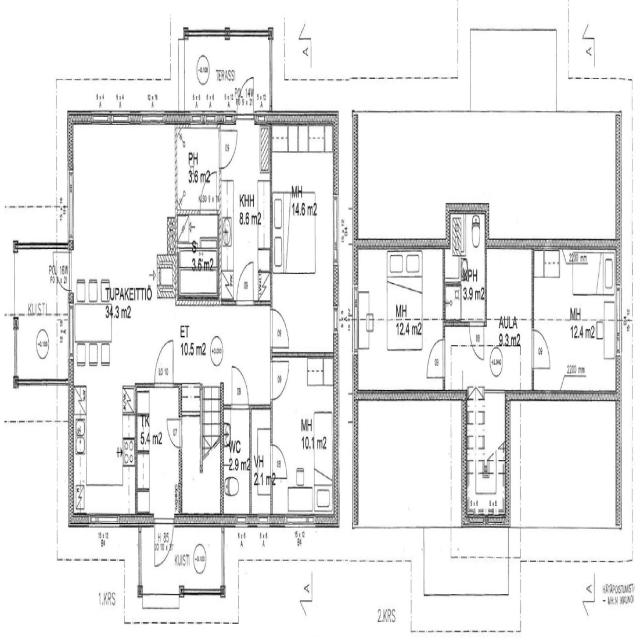door: (152, 333, 176, 390), (234, 254, 258, 310), (529, 321, 553, 374), (152, 514, 174, 568), (229, 358, 251, 410), (216, 120, 238, 172), (269, 302, 292, 351), (269, 351, 291, 401), (425, 332, 447, 382), (236, 71, 256, 123), (468, 317, 487, 363), (270, 436, 289, 481), (165, 412, 182, 452), (468, 381, 482, 404)
window: (85, 508, 123, 536), (132, 103, 170, 131), (283, 507, 316, 537), (11, 250, 20, 322), (12, 323, 22, 375), (255, 509, 272, 536), (539, 378, 560, 398), (232, 510, 250, 533)
zone: (70, 120, 176, 292), (270, 121, 338, 335), (531, 248, 620, 396), (355, 245, 441, 394), (72, 343, 137, 520), (271, 352, 336, 521), (220, 115, 271, 302), (15, 244, 72, 381), (468, 26, 558, 109), (485, 246, 533, 391), (461, 388, 509, 524), (136, 380, 182, 514), (180, 401, 222, 518), (173, 116, 219, 213), (177, 207, 220, 301), (221, 404, 251, 517), (251, 409, 273, 516), (569, 34, 595, 77), (445, 278, 461, 324)
